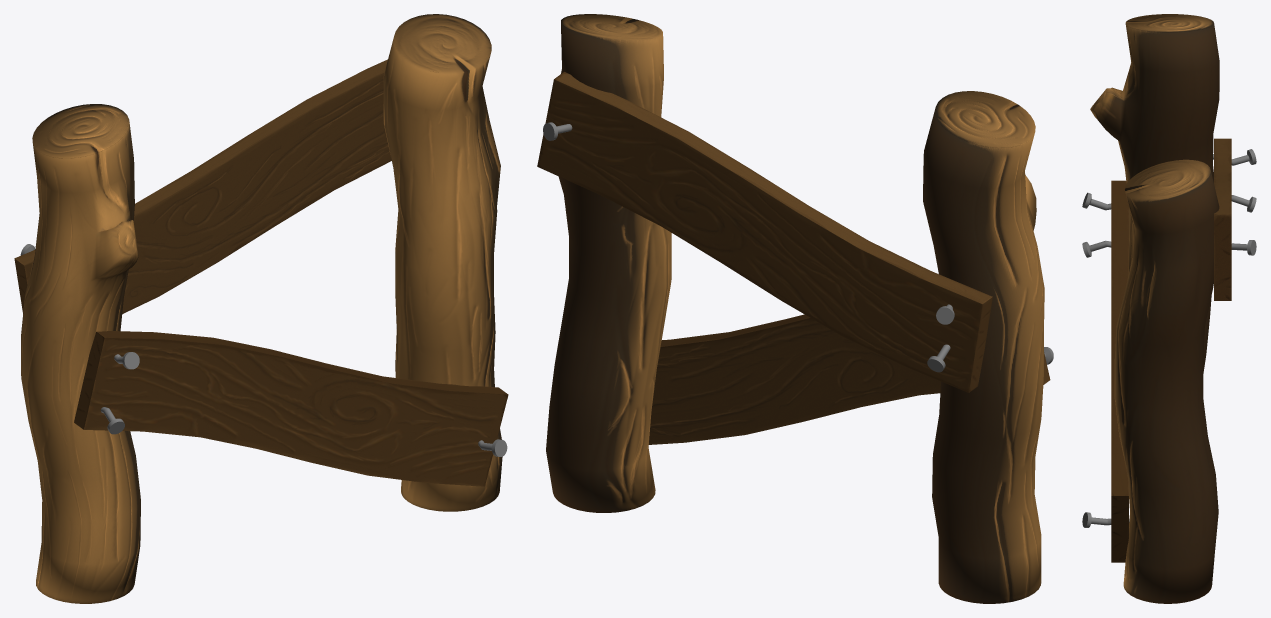
The model's file is 1788371516891_cerca_de_madeira.glb.
3 renders of one model, left to right at view 1: azimuth 30°, elevation 25°; view 2: azimuth 150°, elevation 25°; view 3: azimuth 270°, elevation 25°, orthographic. The views are drawn at different scales.
Parts seen in each view (by area): view 1: Tronco1Low, Tabua1low.001, Tronco2Low, Tabua1low; view 2: Tronco1Low, Tabua1low, Tronco2Low, Tabua1low.001; view 3: Tronco2Low, Tronco1Low, Tabua1low.001, Tabua1low, PregoLow.003, PregoLow.004, PregoLow.005, PregoLow.002, PregoLow.001.
Part boxes in pixels (x1,y1,x2,y2): Tronco1Low: [21, 104, 140, 603]; Tabua1low.001: [74, 331, 508, 486]; Tronco2Low: [383, 14, 502, 511]; Tabua1low: [14, 59, 391, 313]; Tronco1Low: [923, 91, 1044, 603]; Tabua1low: [537, 72, 992, 392]; Tronco2Low: [546, 14, 671, 512]; Tabua1low.001: [649, 314, 1050, 444]; Tronco2Low: [1114, 159, 1219, 603]; Tronco1Low: [1090, 14, 1219, 373]; Tabua1low.001: [1111, 180, 1128, 562]; Tabua1low: [1214, 138, 1231, 300]; PregoLow.003: [1082, 512, 1129, 527]; PregoLow.004: [1082, 240, 1111, 257]; PregoLow.005: [1082, 192, 1111, 210]; PregoLow.002: [1231, 240, 1256, 255]; PregoLow.001: [1213, 149, 1256, 165].
Bounding box in the file's own units: 109 × 102 × 39.29.
4 materials, 4 textured.
